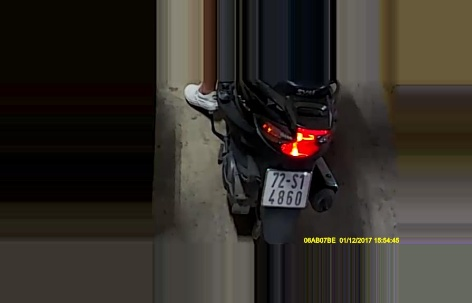plate: (265, 166, 308, 209)
